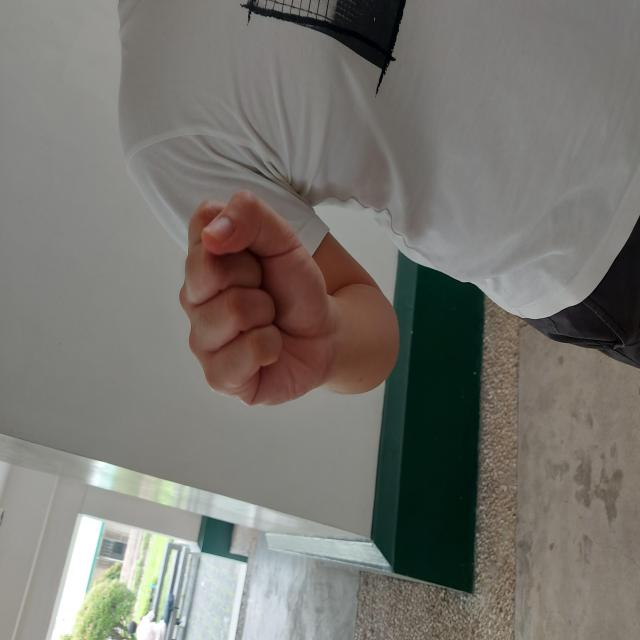S: (233, 178, 450, 329)
